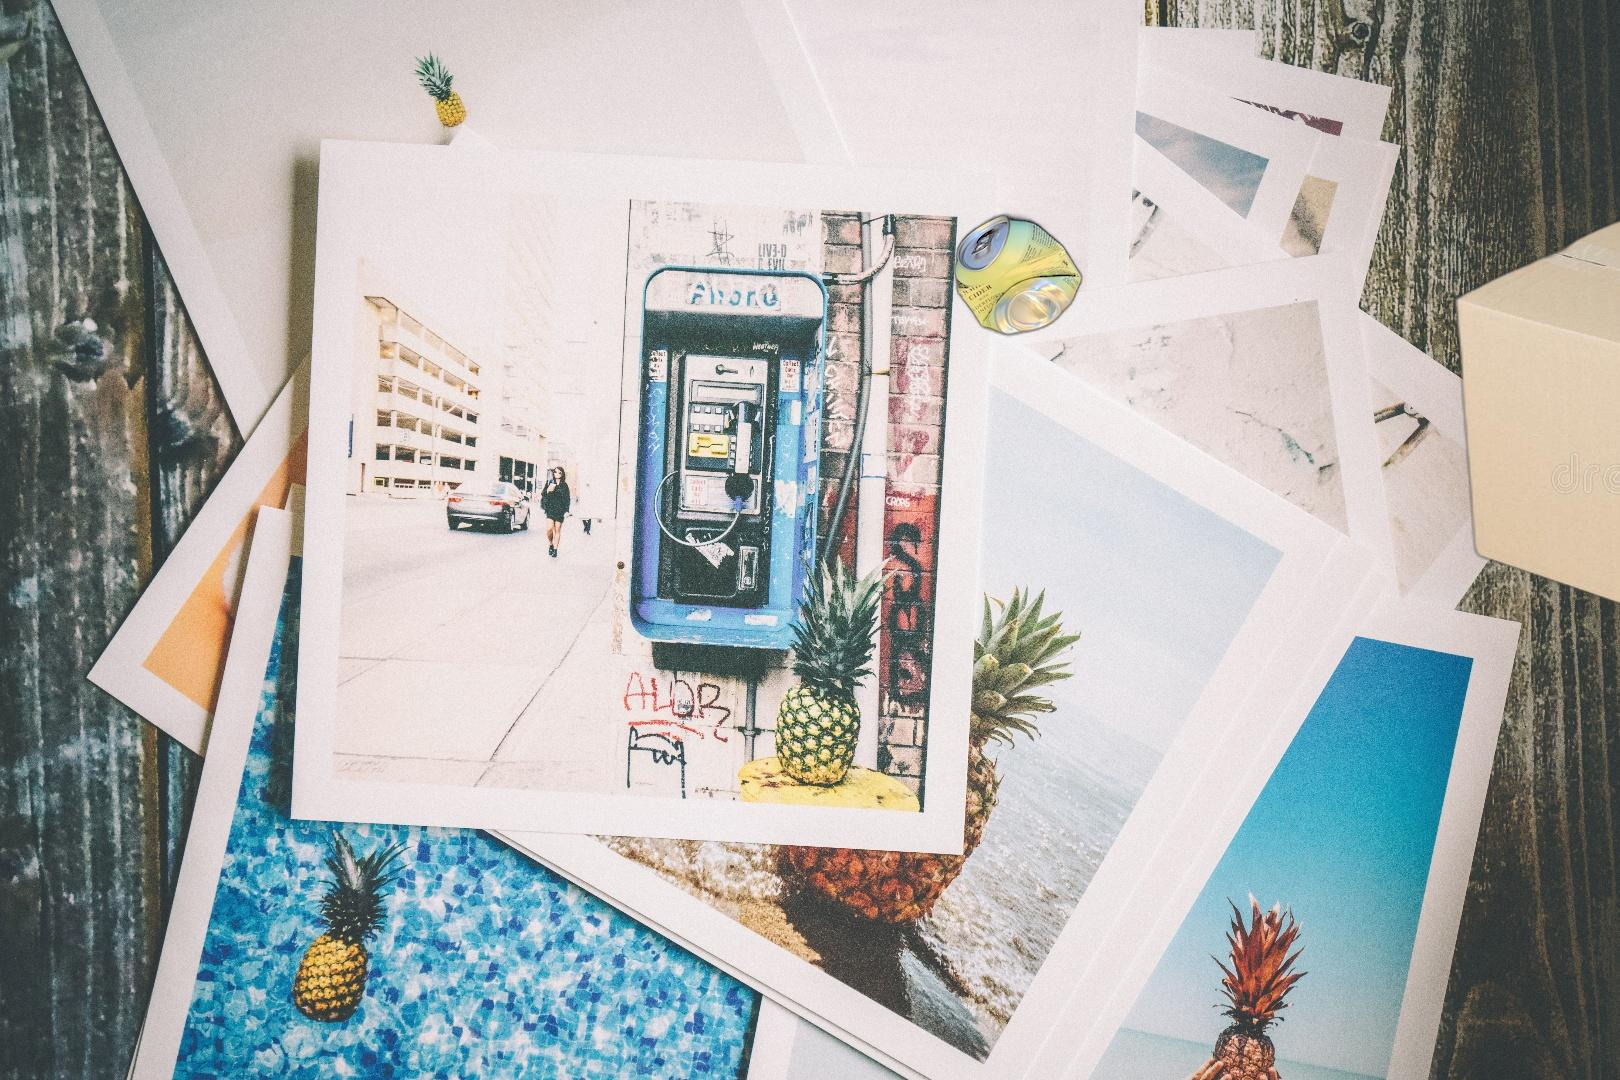metal-cans: (950, 209, 1087, 342)
trashbox-cardboard: (1446, 215, 1620, 677)
